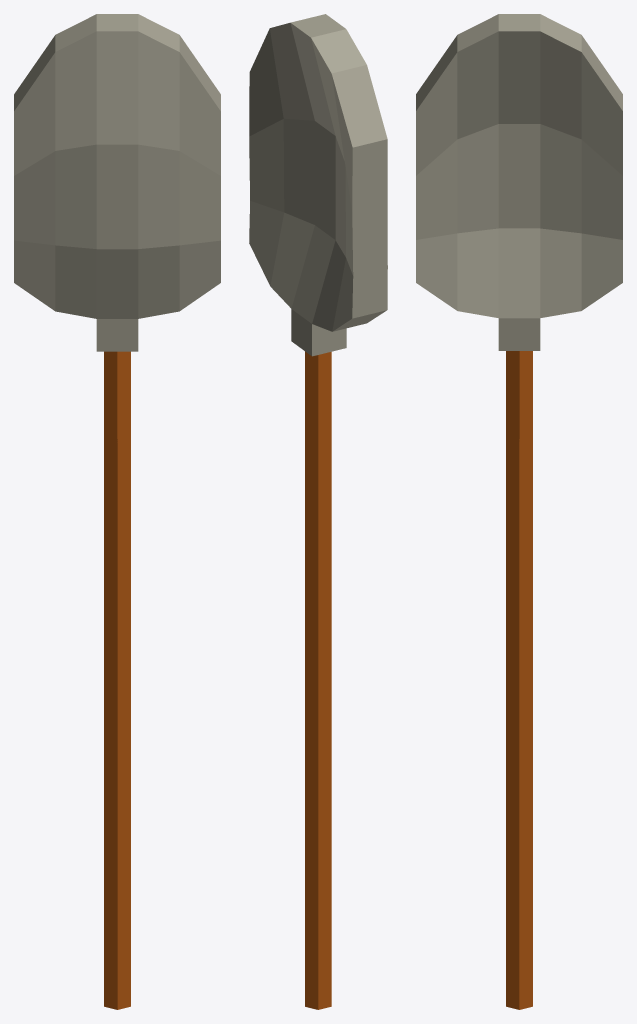
The model's file is shovel.fbx.
3 renders of one model, left to right at view 1: azimuth 90°, elevation 25°; view 2: azimuth 210°, elevation 25°; view 3: azimuth 270°, elevation 25°, orthographic.
Visible parts, largest first — view 1: shovel; view 2: shovel; view 3: shovel.
Boxes of the visible parts, x1=… form: shovel: x1=14, y1=14, x2=220, y2=1009; shovel: x1=249, y1=14, x2=387, y2=1009; shovel: x1=416, y1=14, x2=622, y2=1009.
Size of the model in its own units: 17.63 by 310 by 59.35.
